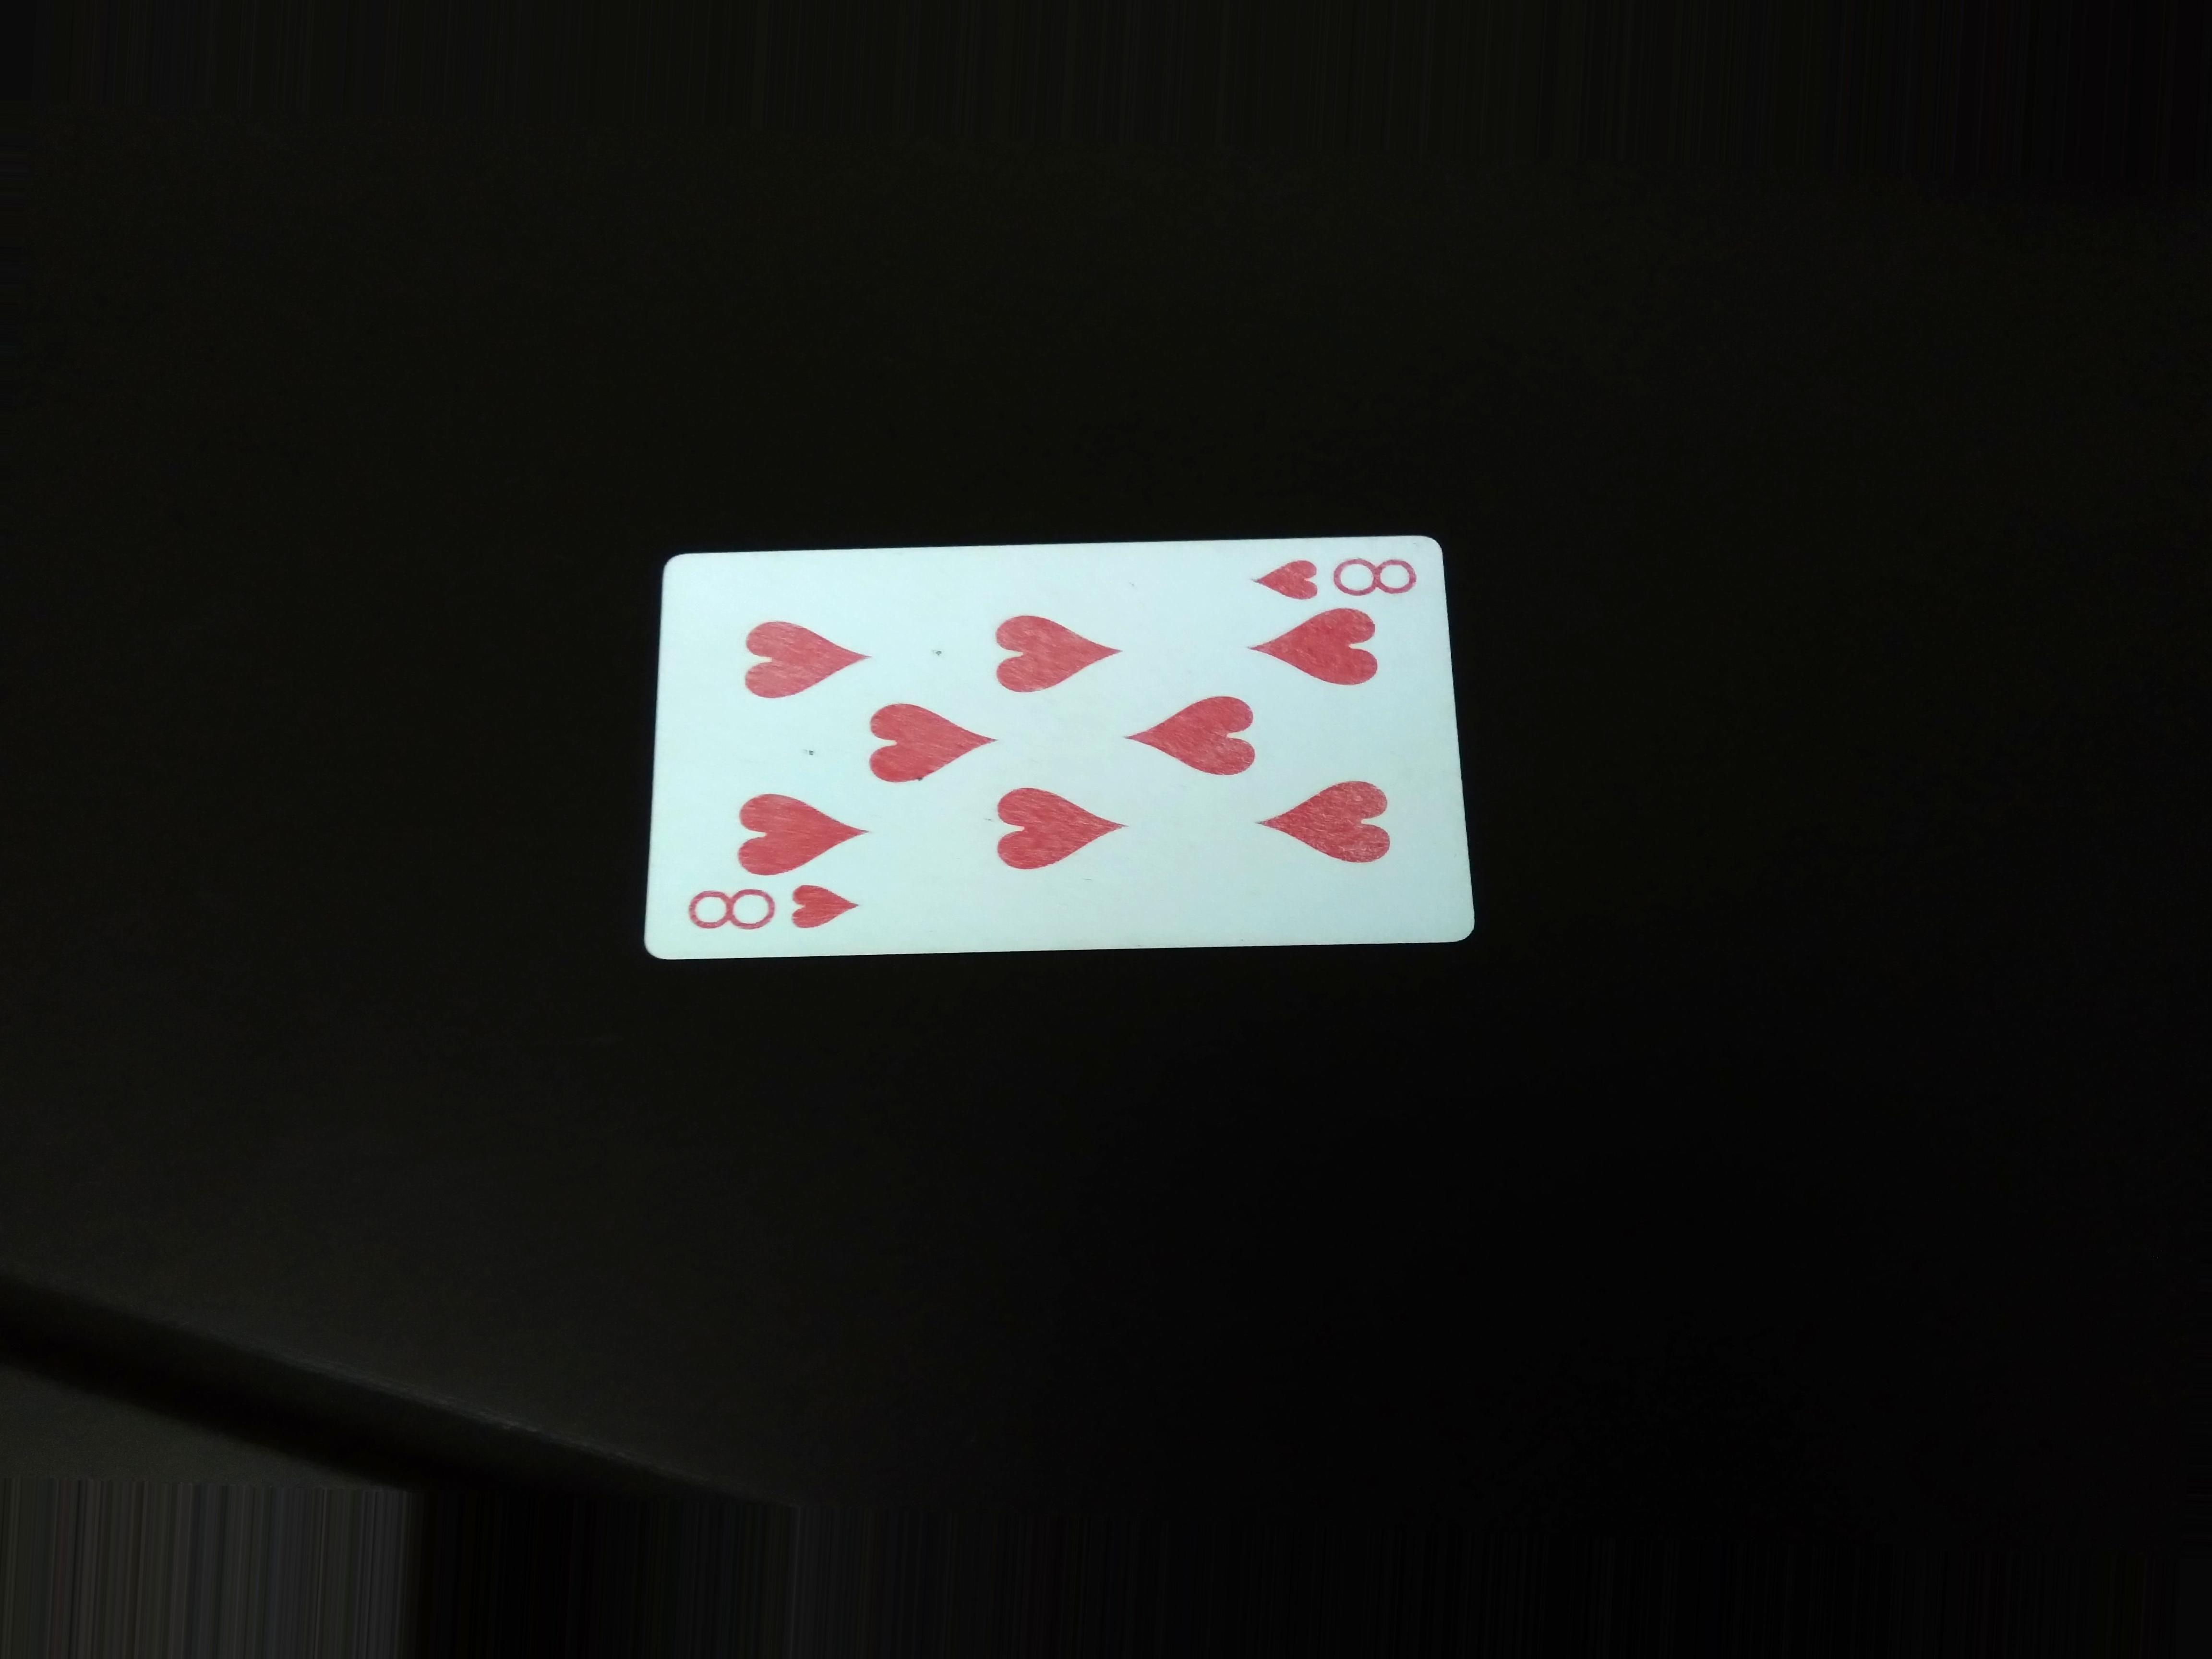8H: (665, 884, 871, 925)
